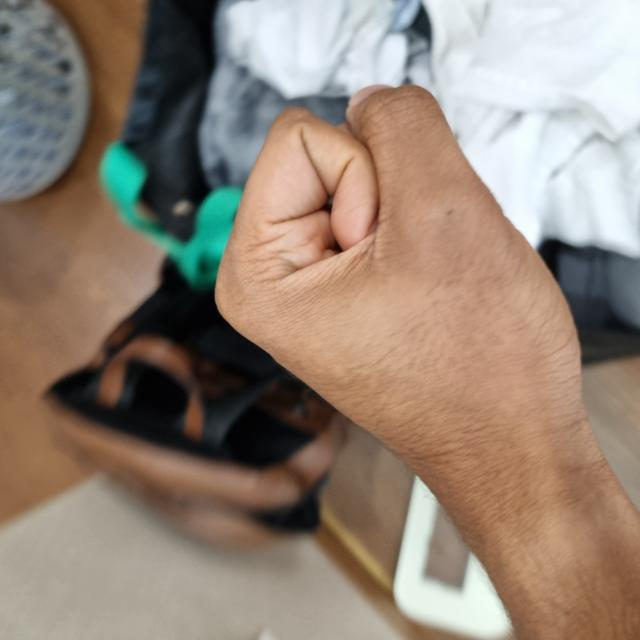Rock: (131, 213, 559, 589)
